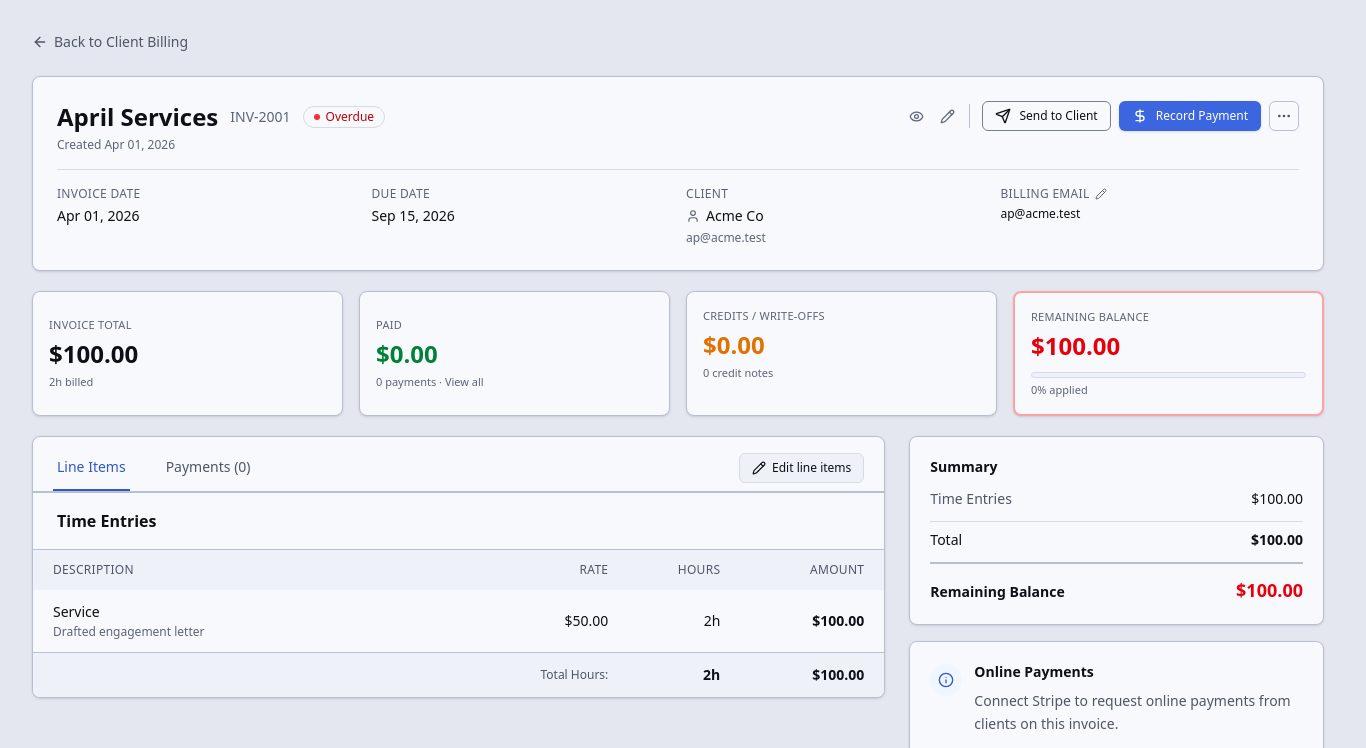
Scenario: offers nothing late-fee related when the firm has late fees off
Click the button named "More actions". click: (1284, 116)
box: [1269,101,1299,131]
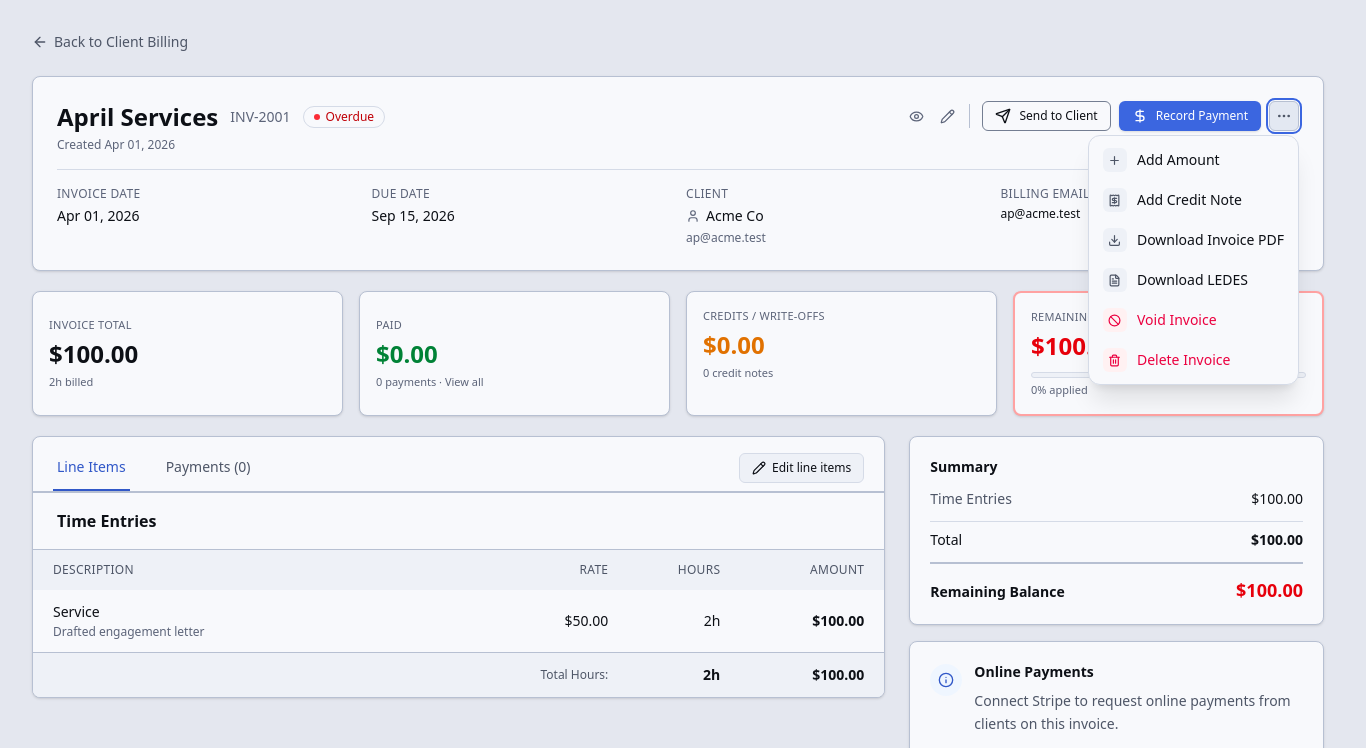
Result: the button "Add Amount" is shown at [1093,140,1294,180]
